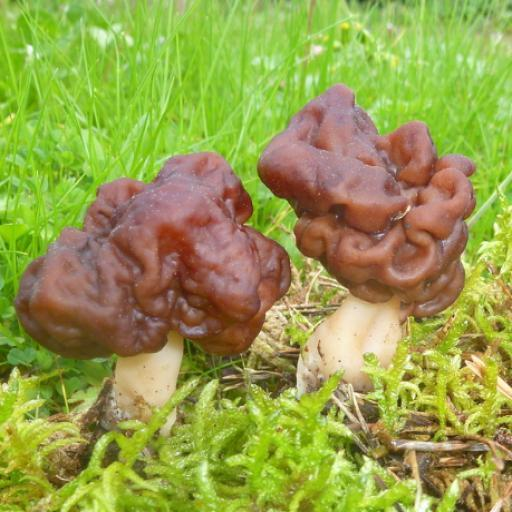mushroom: (0, 119, 318, 445), (0, 0, 1, 1)
